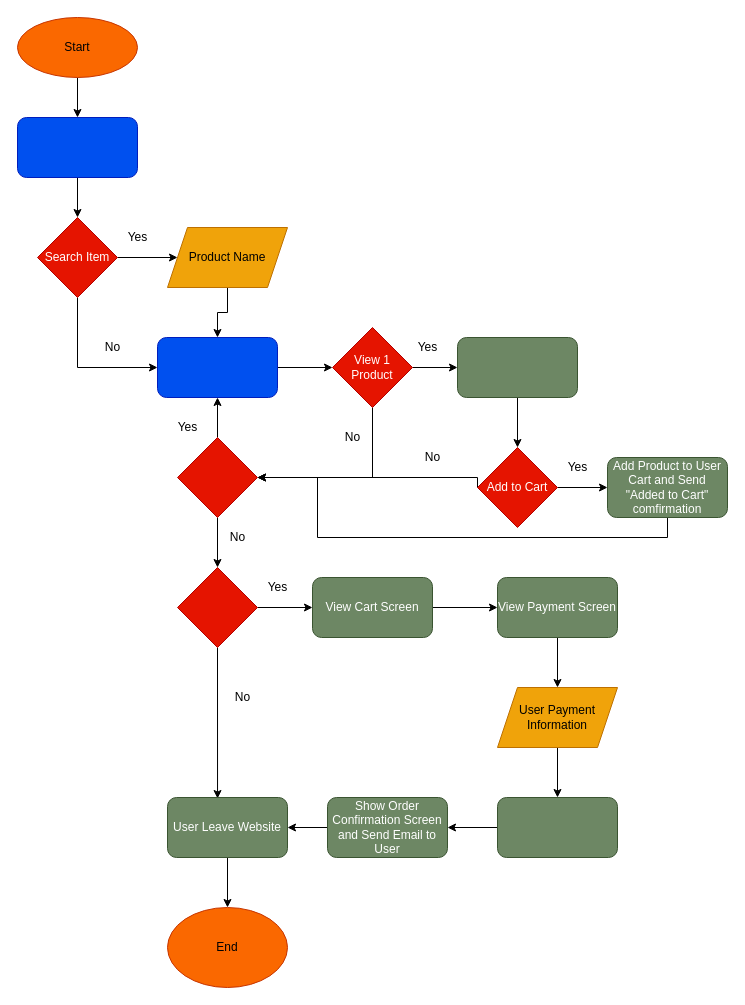
Image size: 745x1005. Some labels were removed from this diagram. Here are the shapes that lost their labels. From the top down, the centre of each, then its label:
point 77,147: User Enters Website
point 217,367: Look over Products
point 517,367: Product WebPage Opens
point 217,477: Continue Shopping
point 217,607: Checkout
point 557,827: User Pays
